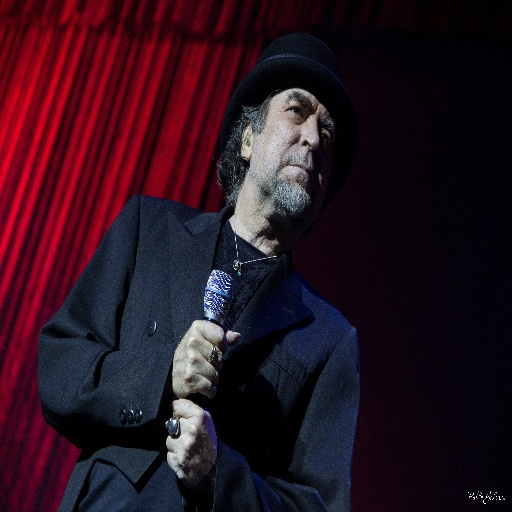hand: (171, 324, 243, 397), (163, 395, 219, 488)
